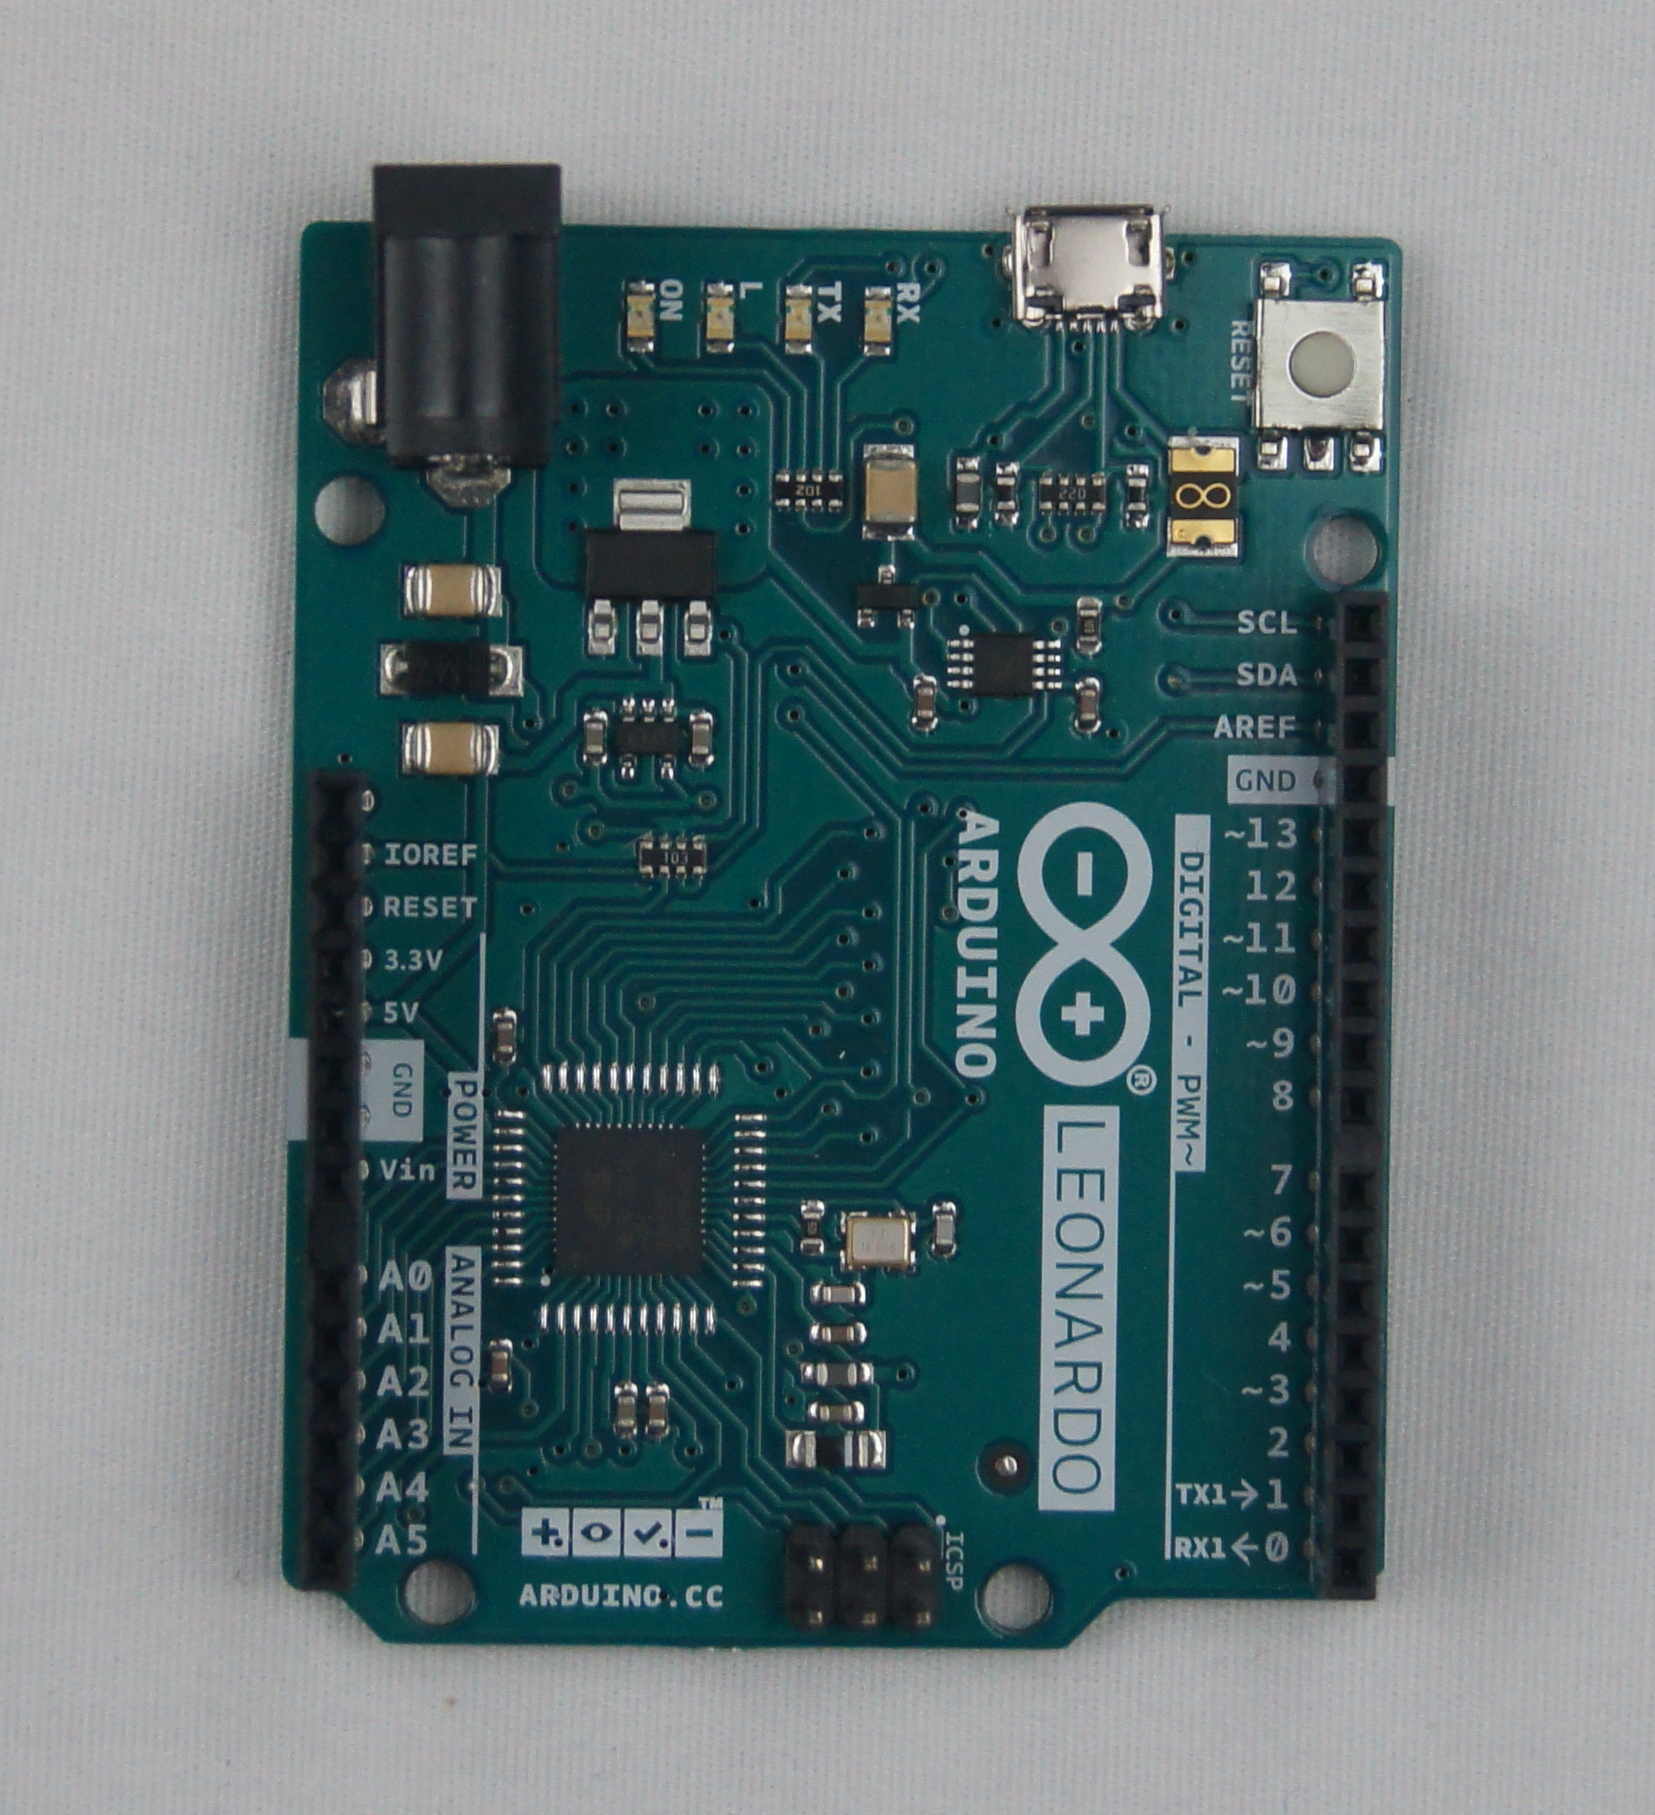kondensator: (401, 726, 493, 775), (865, 446, 914, 536), (405, 568, 493, 613), (952, 463, 980, 525), (800, 1360, 858, 1385), (1075, 681, 1100, 737), (914, 678, 939, 727), (688, 716, 713, 762), (933, 1205, 955, 1252), (643, 1387, 665, 1431), (812, 1401, 860, 1421), (583, 715, 605, 757), (809, 1322, 858, 1341), (488, 1345, 507, 1383), (500, 1015, 514, 1058)
